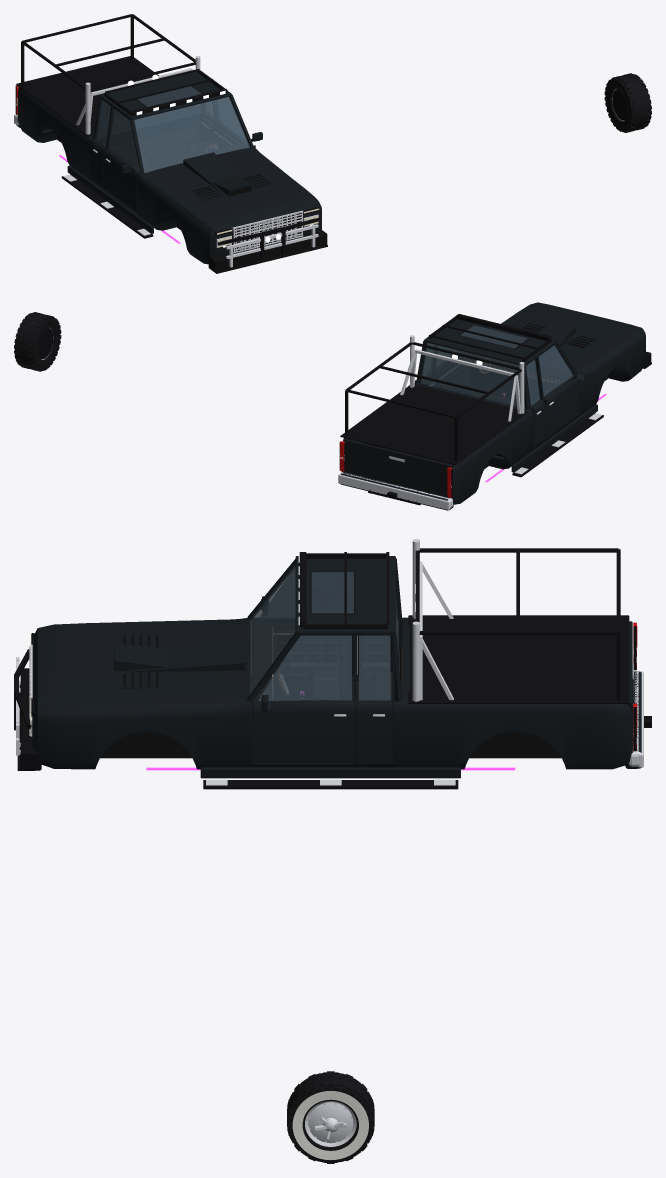
Rendered from IronhornTRX.glb.
3 renders of one model, top to bottom at view 1: azimuth 30°, elevation 25°; view 2: azimuth 150°, elevation 25°; view 3: azimuth 270°, elevation 25°, orthographic. The views are drawn at different scales.
Parts seen in each view (by area): view 1: IronhornTRX_PanelHood, IronhornTRX_Glass, IronhornTRX_PanelSideR, IronhornTRX_OptBedCoverDark, IronhornTRX_Body, IronhornTRX_PanelRoof, IronhornTRX_OptFrontBumperBullDark, IronhornTRX_OptBedRackDark, IronhornTRXWheel_TireOffroadRubber, IronhornTRX_PanelDoorR, IronhornTRX_RoofGlass, IronhornTRX_RoofBody (+23 smaller); view 2: IronhornTRX_OptBedCoverDark, IronhornTRX_PanelSideR, IronhornTRX_PanelHood, IronhornTRX_Lid, IronhornTRX_RoofGlass, IronhornTRX_PanelRoof, IronhornTRX_OptBedRackDark, IronhornTRX_Body, IronhornTRXWheel_TireOffroadRubber, IronhornTRX_PanelDoorR, IronhornTRX_OptRearBumperTubeChrome, IronhornTRX_OptBedRollbarChrome (+18 smaller); view 3: IronhornTRX_PanelSideL, IronhornTRX_OptBedCoverDark, IronhornTRX_PanelHood, IronhornTRX_PanelDoorL, IronhornTRX_PanelRoof, IronhornTRX_RoofGlass__WinDoorL, IronhornTRX_Under, IronhornTRX_Glass, IronhornTRX_OptBedRackDark, IronhornTRX_OptSkirtsRockerBody, IronhornTRXWheel_TireOffroadRubber, IronhornTRX_RoofBody (+18 smaller).
Part boxes in pixels (<box>): IronhornTRX_PanelHood: <box>140,147,319,231</box>; IronhornTRX_Glass: <box>134,97,249,172</box>; IronhornTRX_PanelSideR: <box>17,87,211,264</box>; IronhornTRX_OptBedCoverDark: <box>16,56,158,136</box>; IronhornTRX_Body: <box>36,114,321,264</box>; IronhornTRX_PanelRoof: <box>99,71,232,119</box>; IronhornTRX_OptFrontBumperBullDark: <box>208,218,327,272</box>; IronhornTRX_OptBedRackDark: <box>21,14,195,90</box>; IronhornTRXWheel_TireOffroadRubber: <box>604,73,651,132</box>; IronhornTRX_PanelDoorR: <box>103,148,140,211</box>; IronhornTRX_RoofGlass: <box>99,101,200,137</box>; IronhornTRX_RoofBody: <box>92,95,253,173</box>; IronhornTRX_OptBedCoverDark: <box>340,384,527,464</box>; IronhornTRX_PanelSideR: <box>451,329,645,504</box>; IronhornTRX_PanelHood: <box>501,302,643,372</box>; IronhornTRX_Lid: <box>343,438,452,496</box>; IronhornTRX_RoofGlass: <box>420,342,524,408</box>; IronhornTRX_PanelRoof: <box>424,319,556,365</box>; IronhornTRX_OptBedRackDark: <box>345,342,521,461</box>; IronhornTRX_Body: <box>343,366,629,502</box>; IronhornTRXWheel_TireOffroadRubber: <box>14,312,61,371</box>; IronhornTRX_PanelDoorR: <box>544,374,579,437</box>; IronhornTRX_OptRearBumperTubeChrome: <box>338,474,450,510</box>; IronhornTRX_OptBedRollbarChrome: <box>400,349,520,421</box>; IronhornTRX_PanelSideL: <box>37,702,632,769</box>; IronhornTRX_OptBedCoverDark: <box>408,615,629,703</box>; IronhornTRX_PanelHood: <box>33,618,249,711</box>; IronhornTRX_PanelDoorL: <box>252,698,354,763</box>; IronhornTRX_PanelRoof: <box>295,556,395,633</box>; IronhornTRX_RoofGlass__WinDoorL: <box>258,635,351,700</box>; IronhornTRX_Under: <box>100,732,561,758</box>; IronhornTRX_Glass: <box>249,564,295,694</box>; IronhornTRX_OptBedRackDark: <box>415,548,620,700</box>; IronhornTRX_OptSkirtsRockerBody: <box>200,767,460,778</box>; IronhornTRXWheel_TireOffroadRubber: <box>287,1071,374,1163</box>; IronhornTRX_RoofBody: <box>247,558,401,702</box>.
Bounding box in the file's own units: 35.51 × 9.4 × 23.5.
